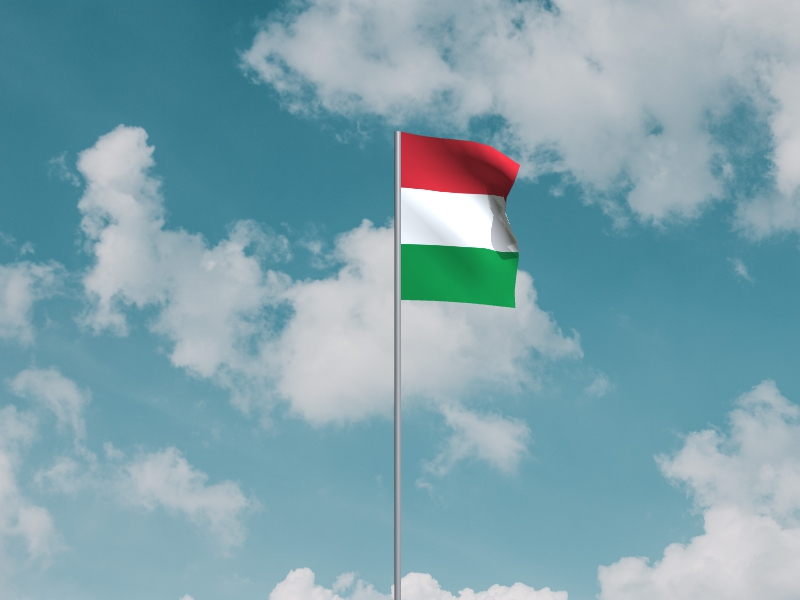it: (402, 132, 521, 309)
